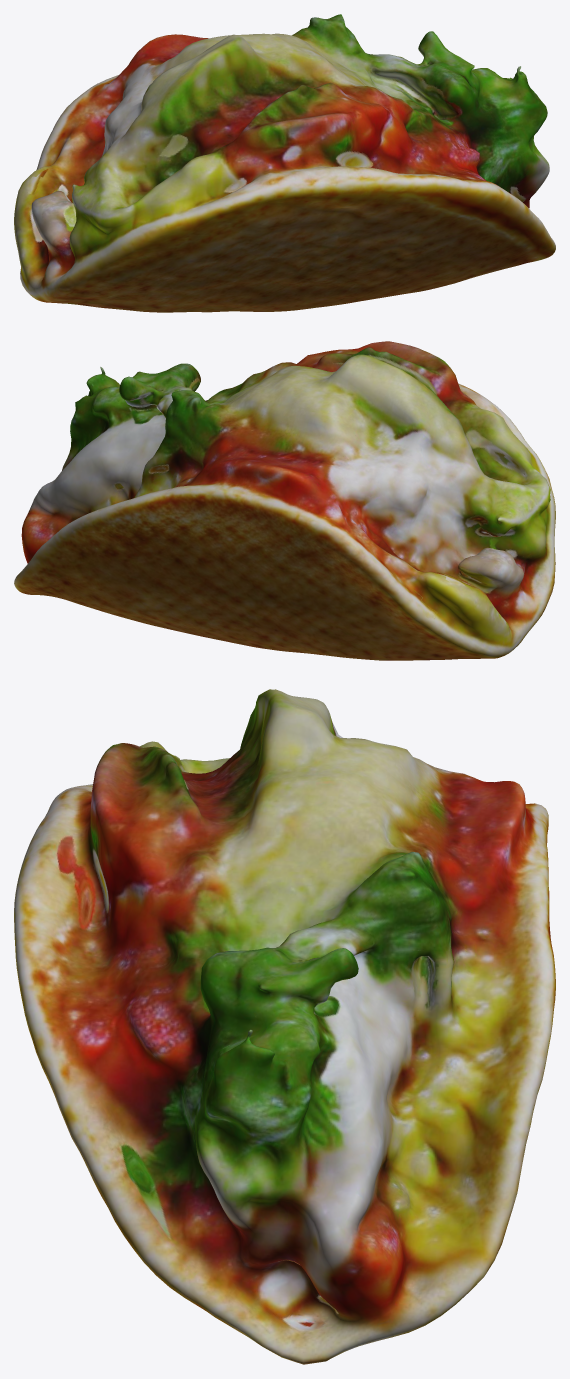
File: loaded_fish_taco.glb
The picture shows the model from 3 angles, top to bottom: view 1: azimuth 30°, elevation 25°; view 2: azimuth 150°, elevation 25°; view 3: azimuth 270°, elevation 25°; orthographic projection. The views are drawn at different scales.
Visible parts, largest first — view 1: Object_2; view 2: Object_2; view 3: Object_2.
Boxes of the visible parts, <box> form: Object_2: <box>14,14,555,312</box>; Object_2: <box>14,341,555,660</box>; Object_2: <box>14,689,555,1364</box>.
Size of the model in its own units: 0.9978 by 0.5675 by 0.6323.
Materials: 1 (1 with a texture image).
